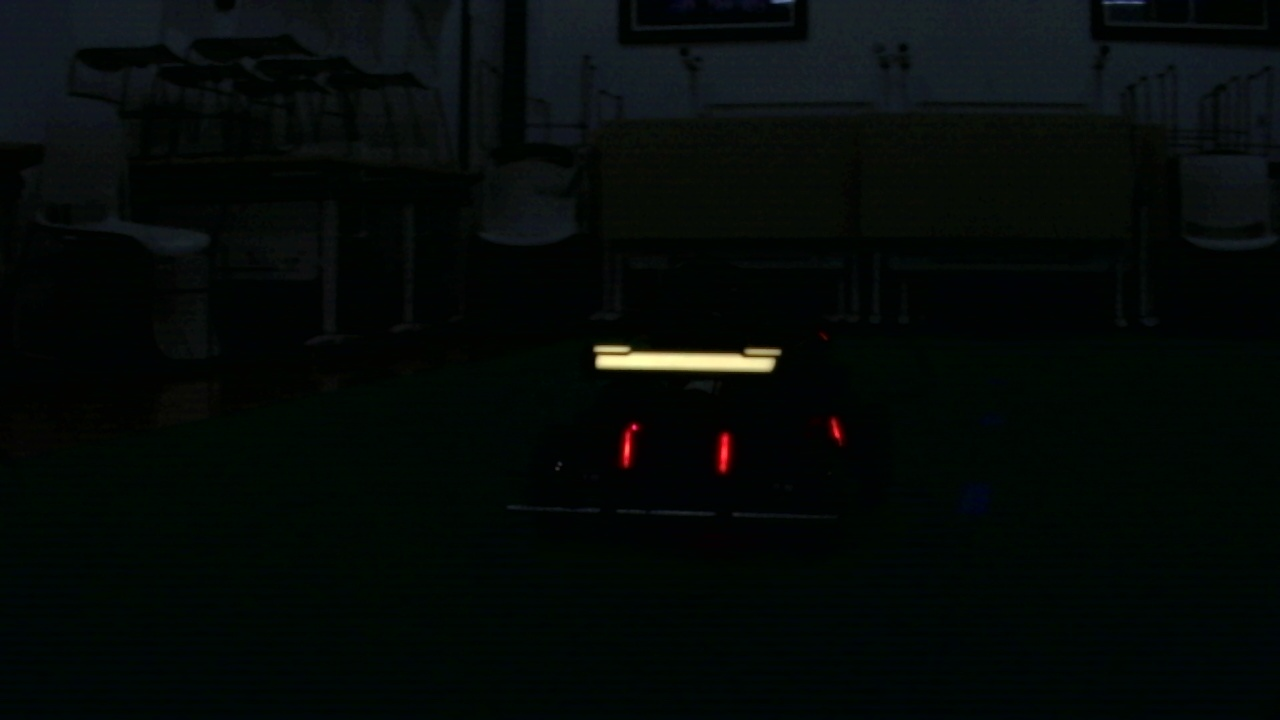lamp: (822, 417, 843, 446), (716, 436, 733, 471), (619, 430, 635, 466)
pair1: (619, 424, 730, 467)
